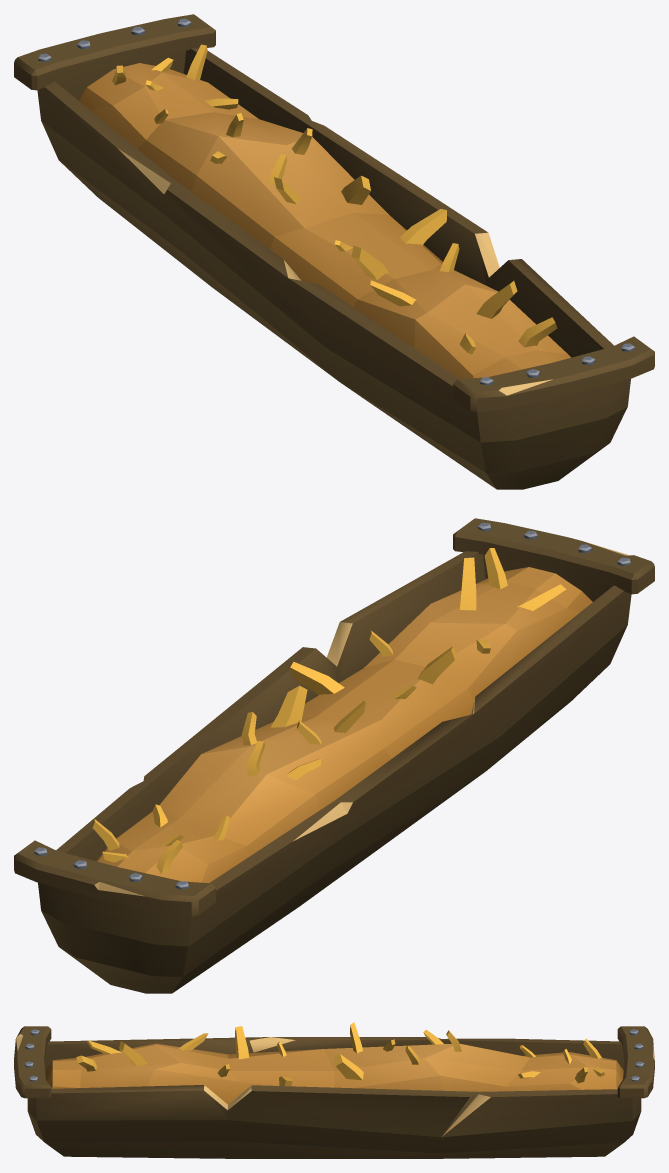
Rendered from Trough_2_D.glb.
3 views of the same model, one above another, from view 1: azimuth 30°, elevation 25°; view 2: azimuth 150°, elevation 25°; view 3: azimuth 270°, elevation 25° (orthographic). The views are drawn at different scales.
Parts seen in each view (by area): view 1: Trough_2_D; view 2: Trough_2_D; view 3: Trough_2_D.
Boxes of the visible parts, x1,y1,x2,y2 form: Trough_2_D: [14, 14, 654, 489]; Trough_2_D: [14, 518, 654, 993]; Trough_2_D: [14, 1022, 654, 1158].
Size of the model in its own units: 0.7368 by 0.6149 by 3.25.
2 materials, 2 textured.
